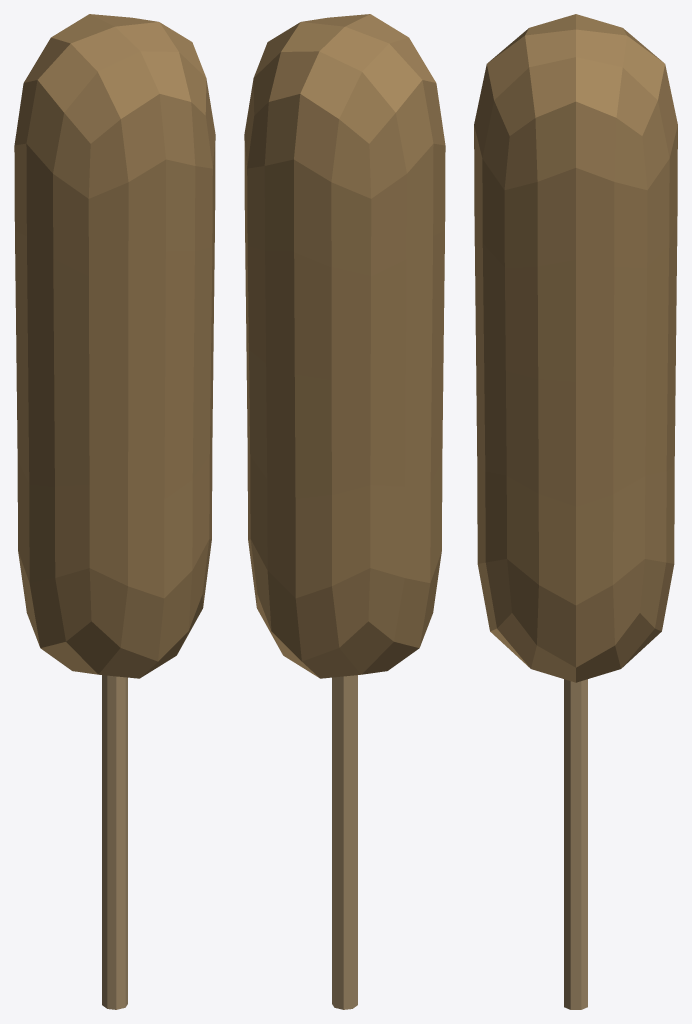
File: Corndog.glb
The picture shows the model from 3 angles, left to right: view 1: azimuth 30°, elevation 25°; view 2: azimuth 150°, elevation 25°; view 3: azimuth 270°, elevation 25°; orthographic projection.
Visible parts, largest first — view 1: Corndog; view 2: Corndog; view 3: Corndog.
Boxes of the visible parts, x1=… form: Corndog: x1=14, y1=14, x2=215, y2=1009; Corndog: x1=244, y1=14, x2=445, y2=1009; Corndog: x1=474, y1=14, x2=677, y2=1009.
Bounding box in the file's own units: 0.2561 × 1.35 × 0.2561.
